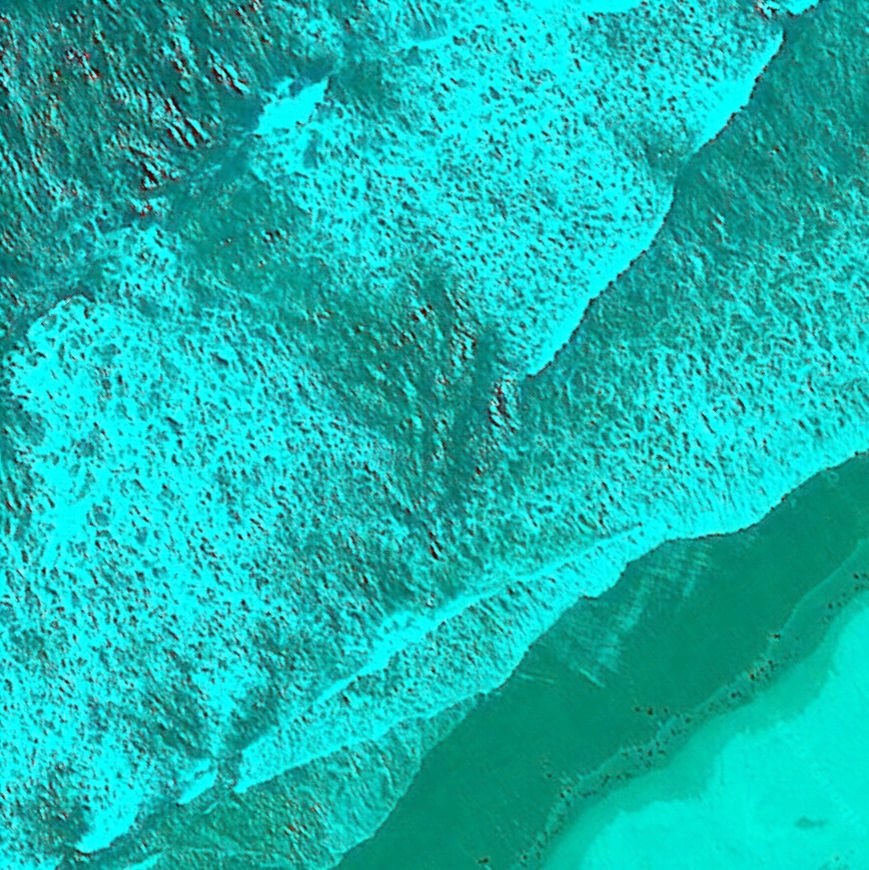rip_current: (159, 133, 649, 638)
